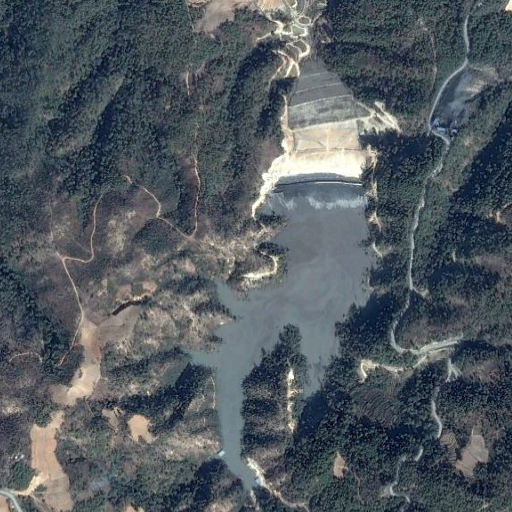tp: (180, 57, 373, 490)
